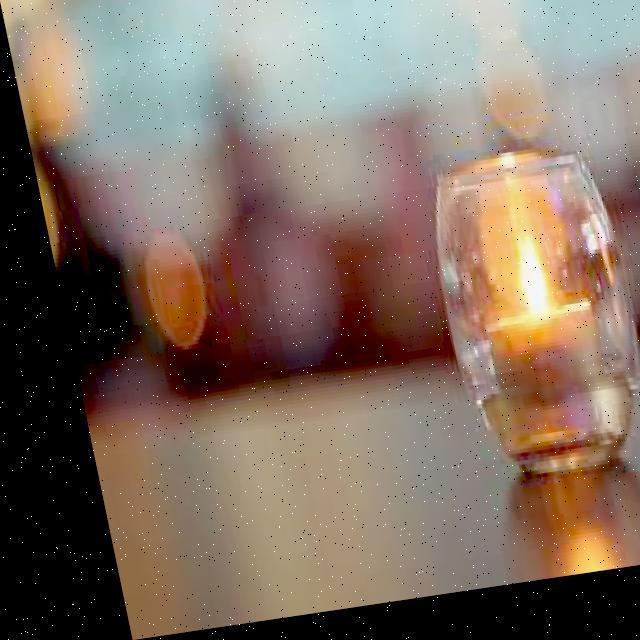Fire: (484, 234, 542, 338)
